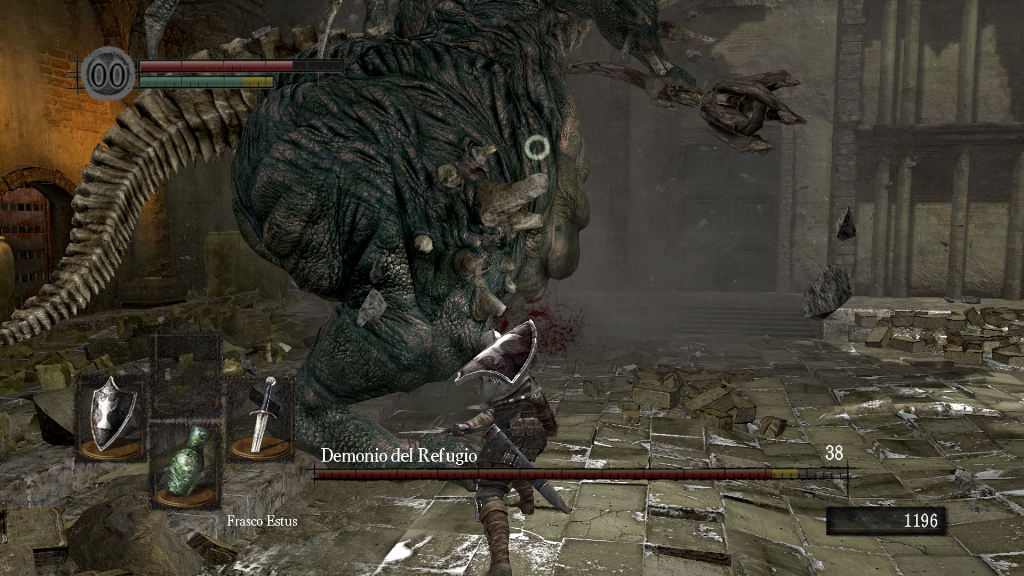asylumDemon: (1, 2, 810, 466)
bossHP: (314, 469, 847, 479)
health: (138, 58, 343, 71)
humanity: (80, 45, 136, 102)
player: (442, 317, 558, 576)
souls: (825, 506, 945, 536)
stamina: (138, 74, 274, 88)
